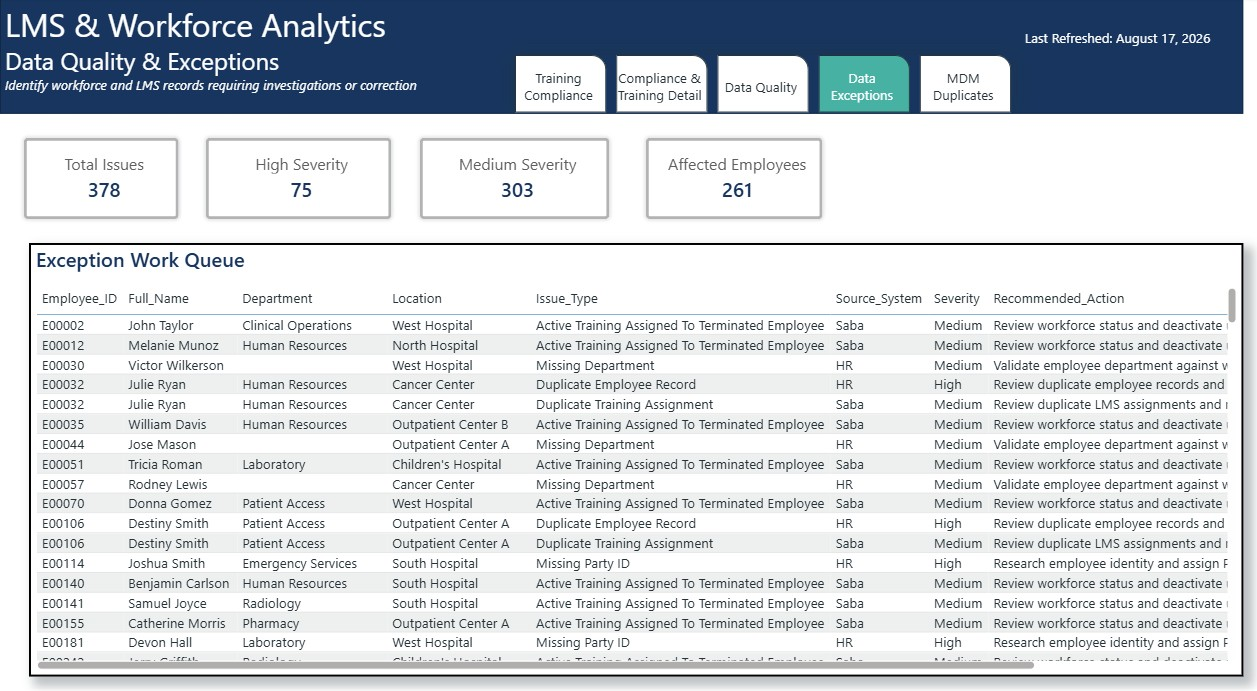

Layout of this report page (visuals, bound fields, positions):
{"tool":"powerbi","page":{"name":"Data Exceptions","canvas":[1280,720],"ordinal":4},"visuals":[{"type":"shape","box":[0,0,1253.1,117.6],"z":0},{"type":"pageNavigator","box":[519.2,58.8,501,58.8],"z":1000},{"type":"cardVisual","fields":{"Data":["vw_DataQualityIssues.Total Data Quality Issues"]},"box":[0,117.6,204,130.4],"z":2000},{"type":"cardVisual","fields":{"Data":["vw_DataQualityIssues.High Severity Issues"]},"box":[183.9,117.6,235.3,130.4],"z":3000},{"type":"cardVisual","fields":{"Data":["vw_DataQualityIssues.Medium Severity Issues"]},"box":[399.1,117.6,239.1,130.4],"z":4000},{"type":"textbox","box":[1028.1,26.9,206.5,31.9],"z":5000},{"type":"textbox","box":[0,0,640.6,117.6],"z":6000},{"type":"cardVisual","fields":{"Data":["vw_DataQualityIssues.Affected Employees"]},"box":[626.6,117.6,226.3,130.4],"z":7000},{"type":"tableEx","title":"Exception Work Queue","fields":{"Values":["vw_DataQualityIssues.Employee_ID","vw_DataQualityIssues.Full_Name","vw_DataQualityIssues.Department","vw_DataQualityIssues.Location","vw_DataQualityIssues.Issue_Type","vw_DataQualityIssues.Source_System","vw_DataQualityIssues.Severity","vw_DataQualityIssues.Recommended_Action"]},"box":[29.4,248.1,1223.7,437.3],"z":8000},{"type":"textbox","box":[845.1,117.9,407.2,116.1],"z":9000}]}

Visuals, with their boxes in screenshot pixels (x1, y1, x2, y2), scaled from the page's 1280x720 canvas onto the 1257x691 screenshot:
shape: bbox=[0, 0, 1231, 113]
pageNavigator: bbox=[510, 56, 1002, 113]
cardVisual - vw_DataQualityIssues.Total Data Quality Issues: bbox=[0, 113, 200, 238]
cardVisual - vw_DataQualityIssues.High Severity Issues: bbox=[181, 113, 412, 238]
cardVisual - vw_DataQualityIssues.Medium Severity Issues: bbox=[392, 113, 627, 238]
textbox: bbox=[1010, 26, 1212, 56]
textbox: bbox=[0, 0, 629, 113]
cardVisual - vw_DataQualityIssues.Affected Employees: bbox=[615, 113, 838, 238]
"Exception Work Queue" tableEx: bbox=[29, 238, 1231, 658]
textbox: bbox=[830, 113, 1230, 225]
